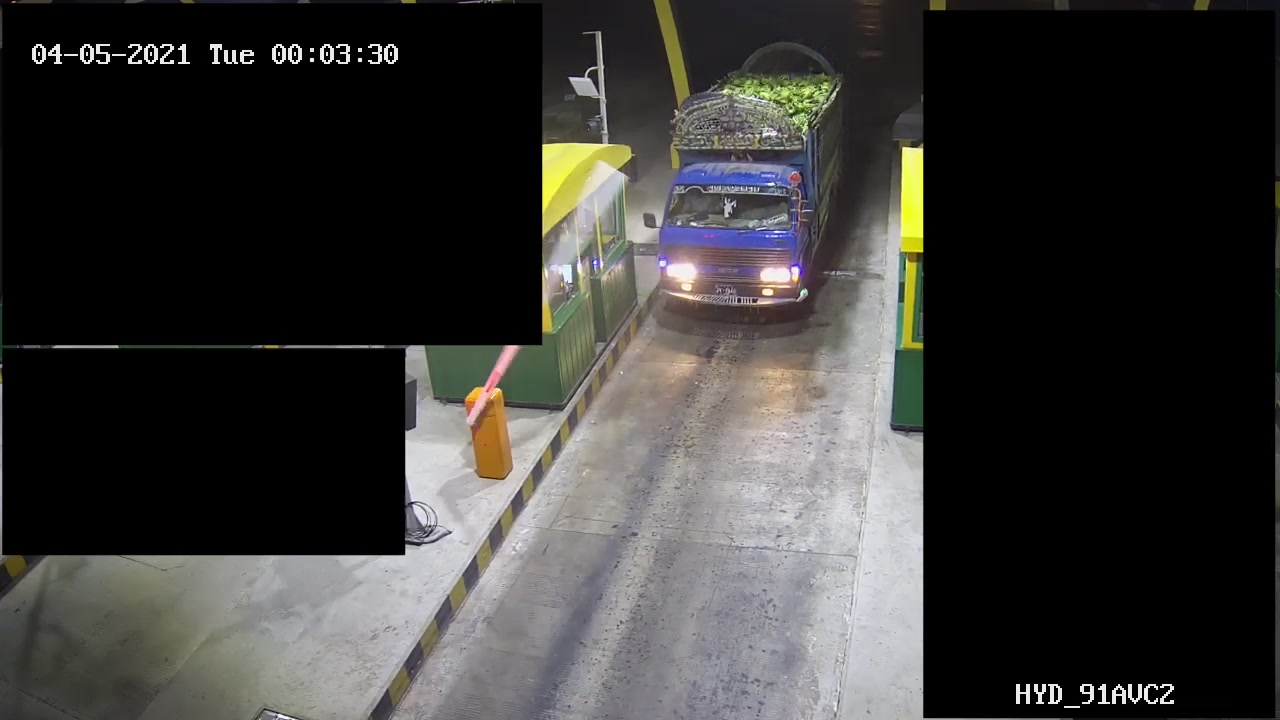F5: (656, 43, 849, 316)
